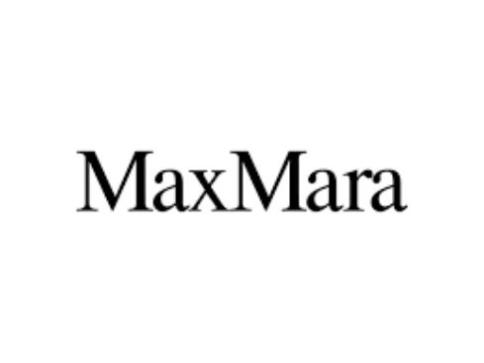MAX-MARA: (66, 142, 407, 215)
